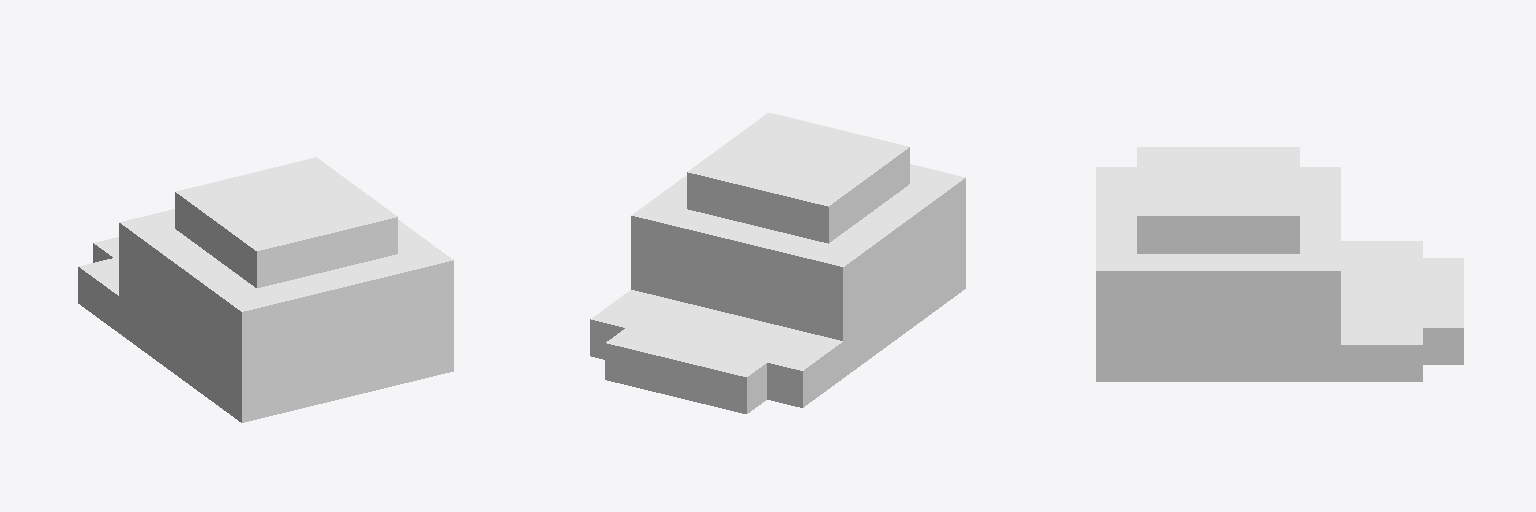
File: backcap.obj
The picture shows the model from 3 angles: view 1: azimuth 30°, elevation 25°; view 2: azimuth 150°, elevation 25°; view 3: azimuth 270°, elevation 25°; orthographic projection.
Parts seen in each view (by area): view 1: object 1; view 2: object 1; view 3: object 1.
Boxes of the visible parts, x1,y1,x2,y2 form: object 1: [78, 157, 453, 422]; object 1: [590, 113, 965, 413]; object 1: [1096, 147, 1463, 381].
Size of the model in its own units: 0.6 by 0.4 by 0.9.